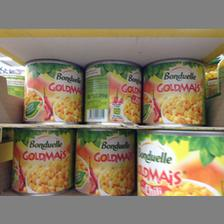Mais: (134, 129, 222, 195), (140, 57, 206, 124), (8, 127, 72, 193), (70, 130, 134, 194), (82, 60, 142, 124), (22, 58, 82, 122)
